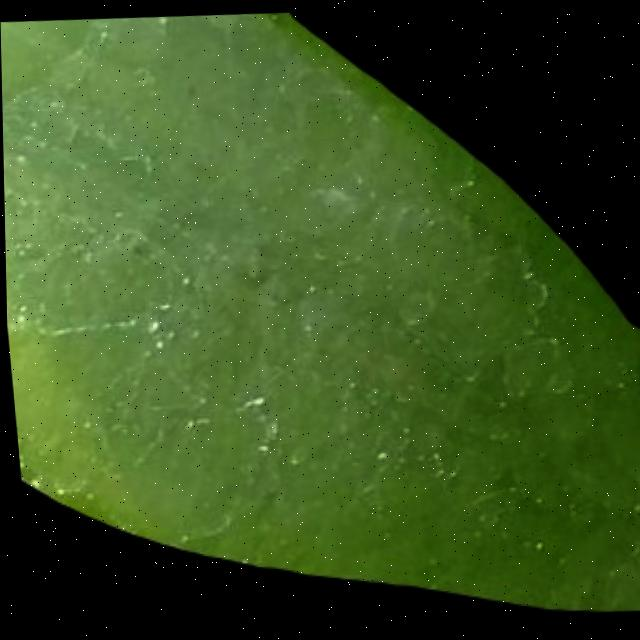mite: (528, 532, 542, 549), (263, 10, 282, 22)
spots: (0, 9, 640, 632)
